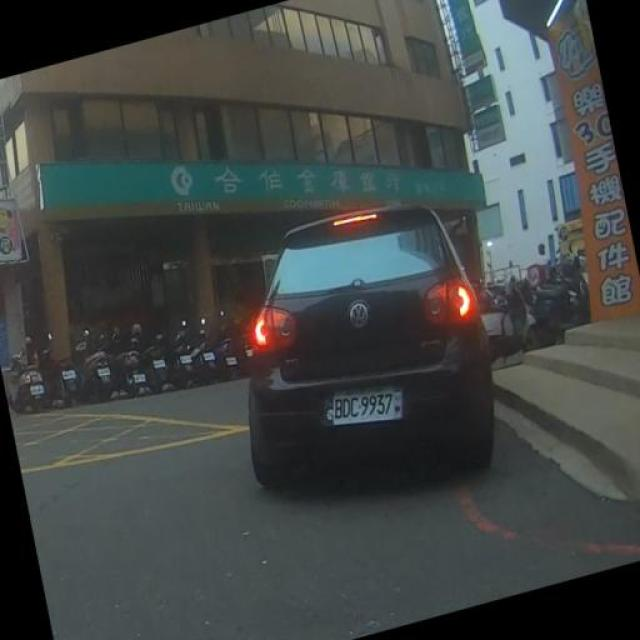illegalparking: (236, 190, 556, 506)
